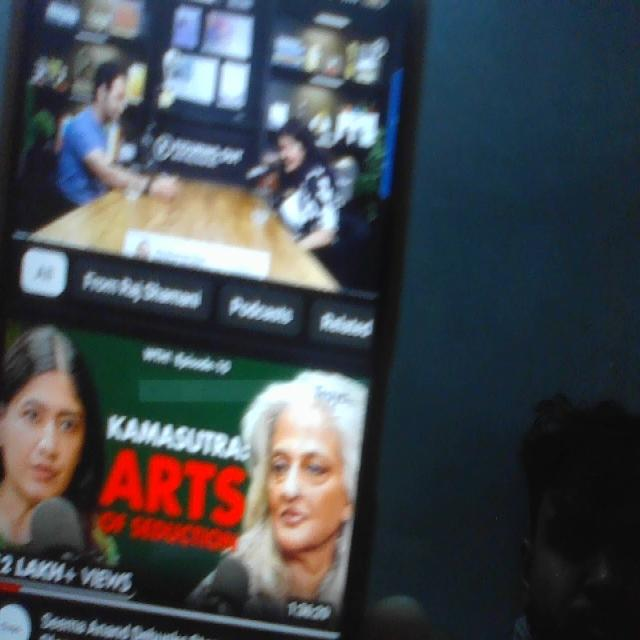fake: (238, 331, 372, 584)
